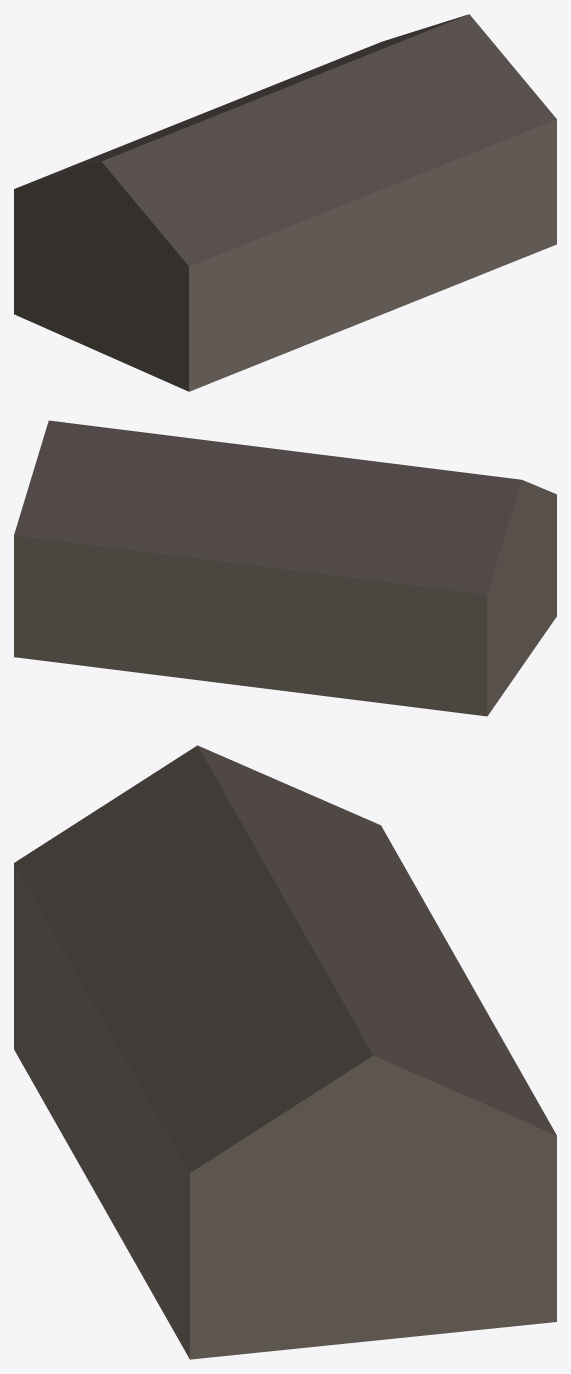
3 views of the same model, one above another, from view 1: azimuth 30°, elevation 25°; view 2: azimuth 150°, elevation 25°; view 3: azimuth 270°, elevation 25° (orthographic). The views are drawn at different scales.
Visible parts, largest first — view 1: HP-w372180497; view 2: HP-w372180497; view 3: HP-w372180497.
Part boxes in pixels (bbox=[...]): HP-w372180497: bbox=[14, 14, 556, 391]; HP-w372180497: bbox=[14, 420, 556, 716]; HP-w372180497: bbox=[14, 745, 556, 1359].
Size of the model in its own units: 24.02 by 9.18 by 15.84.
